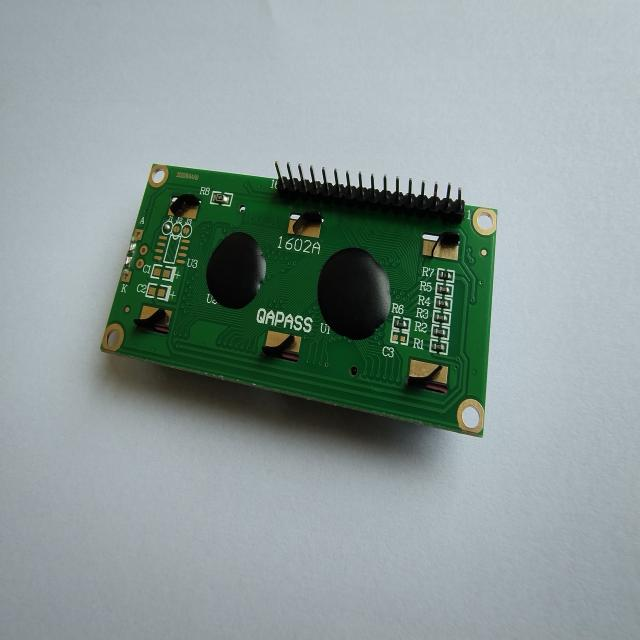lcd: (100, 160, 498, 439)
